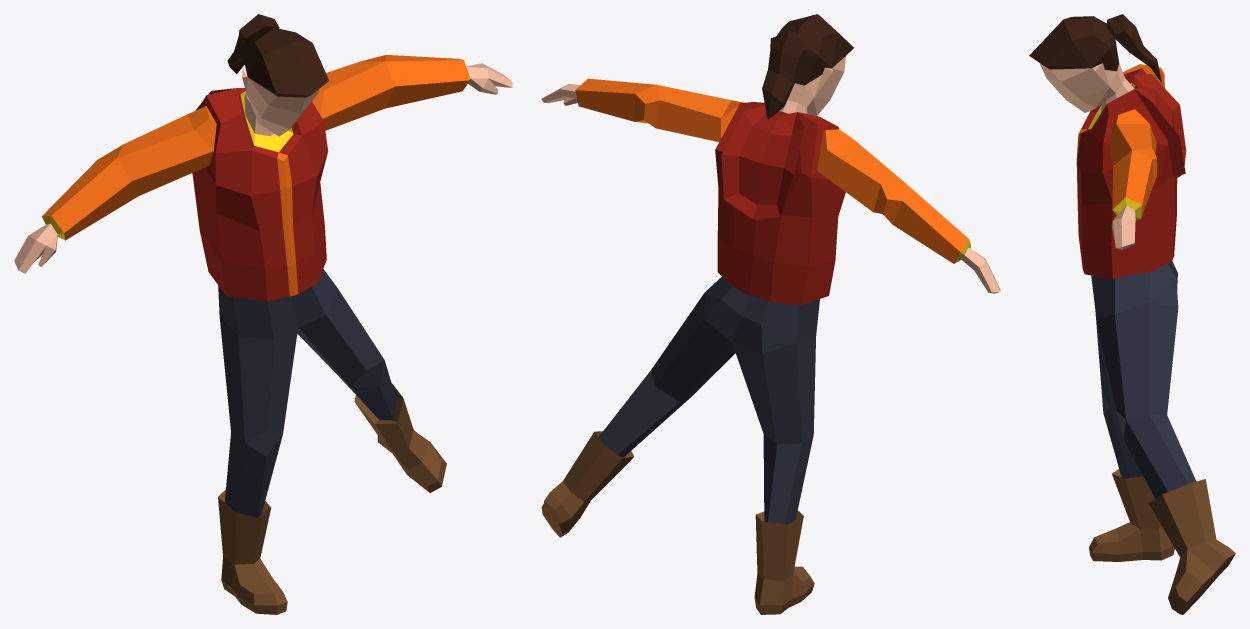
The model's file is AutumnGirl.001.glb.
The picture shows the model from 3 angles, left to right: view 1: azimuth 30°, elevation 25°; view 2: azimuth 150°, elevation 25°; view 3: azimuth 270°, elevation 25°; orthographic projection. The views are drawn at different scales.
Visible parts, largest first — view 1: AutumnGirl.001; view 2: AutumnGirl.001; view 3: AutumnGirl.001.
Boxes of the visible parts, x1,y1,x2,y2 form: AutumnGirl.001: (14, 14, 512, 614); AutumnGirl.001: (541, 14, 1000, 614); AutumnGirl.001: (1029, 14, 1235, 614).
Size of the model in its own units: 1.5 by 1.74 by 0.6012.
Materials: 1 (1 with a texture image).
